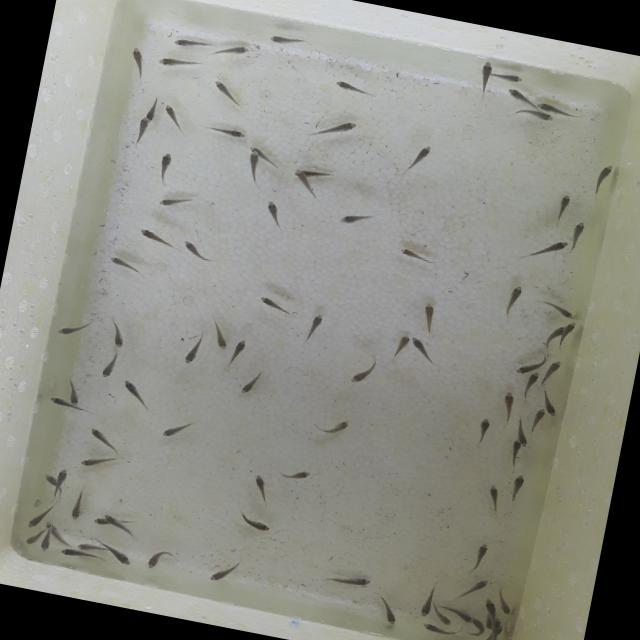fingerling: (306, 111, 364, 148), (316, 567, 376, 594), (526, 232, 570, 268), (154, 48, 205, 79), (117, 375, 157, 414), (261, 24, 314, 53), (208, 78, 251, 113), (400, 138, 439, 176), (586, 158, 618, 202), (232, 506, 278, 536), (121, 41, 154, 82), (390, 241, 440, 268), (177, 234, 219, 266), (54, 314, 96, 346), (499, 279, 530, 321), (181, 328, 211, 371), (254, 291, 297, 320), (332, 76, 378, 103), (135, 224, 177, 253), (312, 412, 354, 441), (86, 423, 124, 455), (104, 253, 150, 279), (337, 204, 378, 233), (158, 100, 192, 134), (204, 120, 252, 144), (348, 354, 380, 390), (168, 30, 212, 56), (204, 314, 234, 352), (300, 307, 328, 347), (206, 556, 242, 587), (144, 544, 178, 576), (235, 365, 265, 401), (210, 39, 253, 64), (154, 190, 198, 214), (153, 148, 178, 190), (472, 58, 498, 98), (102, 317, 132, 351), (550, 188, 578, 224), (262, 196, 290, 232), (160, 415, 196, 443), (78, 450, 120, 474), (539, 297, 579, 322), (246, 470, 273, 507), (374, 595, 403, 628), (565, 217, 589, 256), (416, 300, 442, 336), (512, 106, 557, 126), (59, 546, 104, 566), (534, 100, 578, 120), (506, 470, 528, 510), (226, 336, 251, 370), (407, 334, 435, 364), (498, 388, 520, 426), (468, 539, 491, 575), (472, 414, 496, 448), (278, 463, 314, 485), (418, 620, 462, 638), (504, 85, 537, 108), (482, 482, 505, 515), (417, 582, 438, 618), (244, 150, 264, 187), (389, 332, 412, 364), (492, 68, 526, 88), (521, 370, 541, 404), (542, 356, 564, 386), (464, 574, 492, 597), (132, 114, 152, 146), (100, 348, 120, 380), (108, 547, 135, 569), (528, 408, 548, 437), (69, 491, 87, 523), (66, 378, 84, 407), (507, 440, 521, 471), (76, 540, 106, 554), (432, 609, 455, 627), (498, 596, 516, 617), (452, 608, 474, 624), (482, 598, 499, 618), (488, 616, 502, 640), (26, 512, 44, 530), (292, 168, 312, 184), (40, 470, 57, 488), (47, 394, 68, 408), (39, 534, 53, 554), (23, 532, 40, 547), (103, 512, 121, 526), (516, 432, 531, 448), (515, 364, 532, 378), (55, 468, 71, 482), (565, 319, 579, 333), (545, 404, 559, 418), (470, 616, 484, 630), (91, 515, 107, 527)
